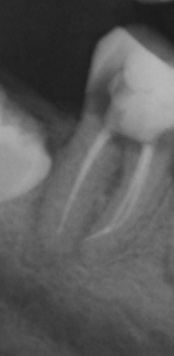fracture: (81, 223, 113, 247)
